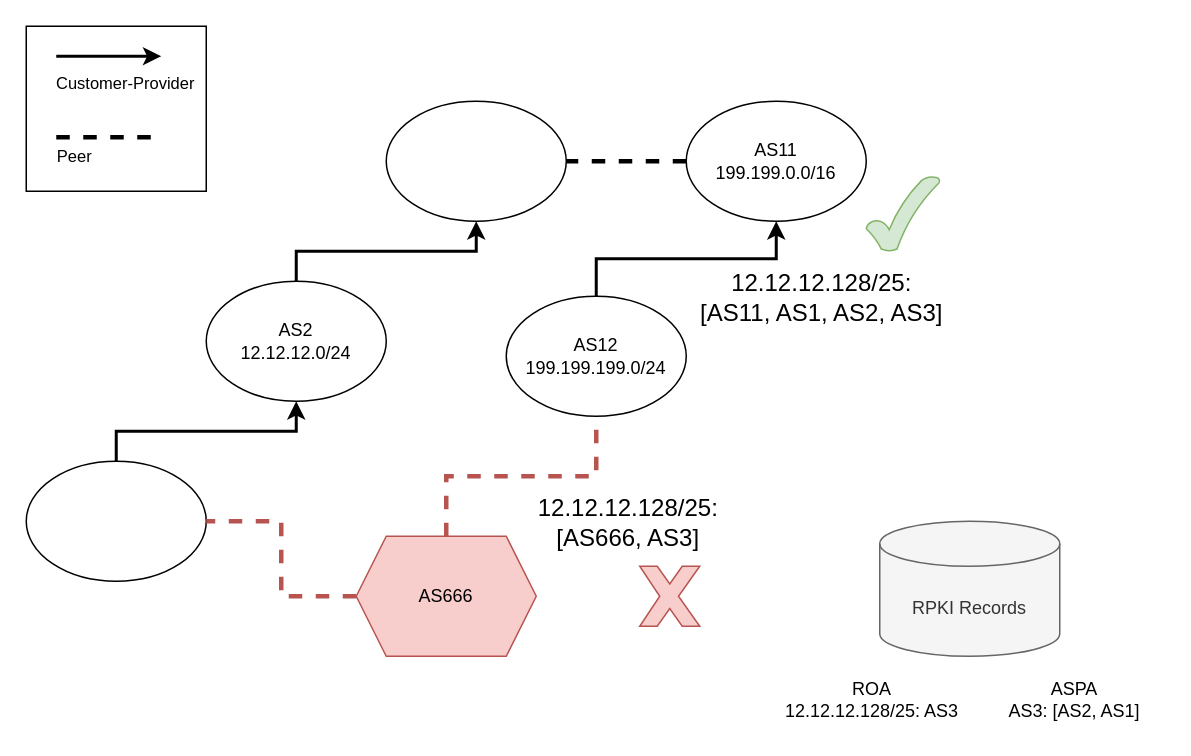
Image size: 1191x756. Some labels were removed from this diagram. Here are the shapes that lost their labels. From the top down, the centre of each, then its label:
point 475,160: AS1 12.12.0.0/16
point 115,520: AS3 12.12.12.128/25
